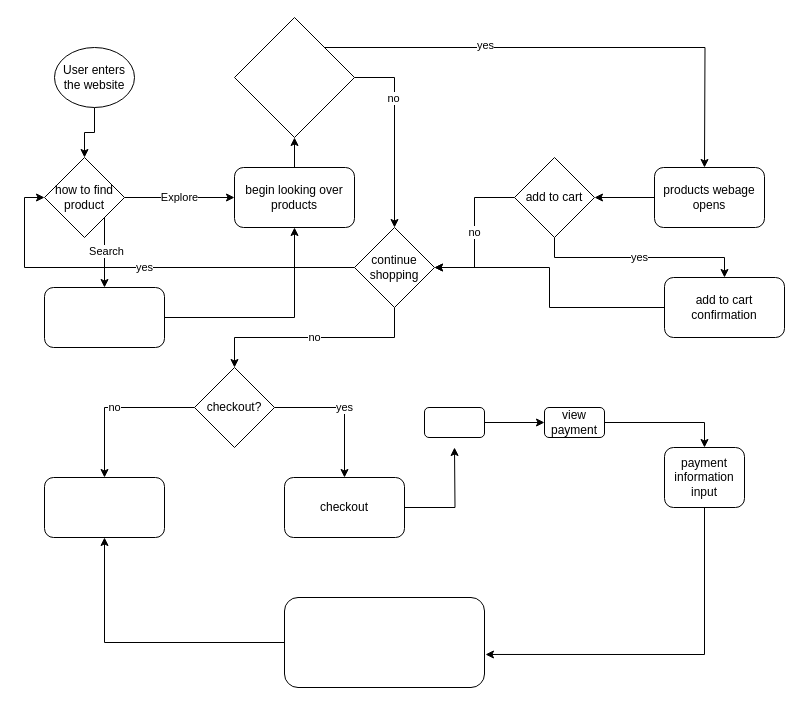
The diagram is 802 pixels wide and 705 high, and some of its shapes have lost their labels. Here are the shapes that lost their labels. From the top down, the box of each, then its label:
(234, 16, 354, 138): choose to look a specific product
(44, 286, 164, 348): Input the name of product
(424, 406, 484, 438): viewcart
(44, 476, 164, 538): leave the website
(284, 596, 484, 688): confirmation screen and email
